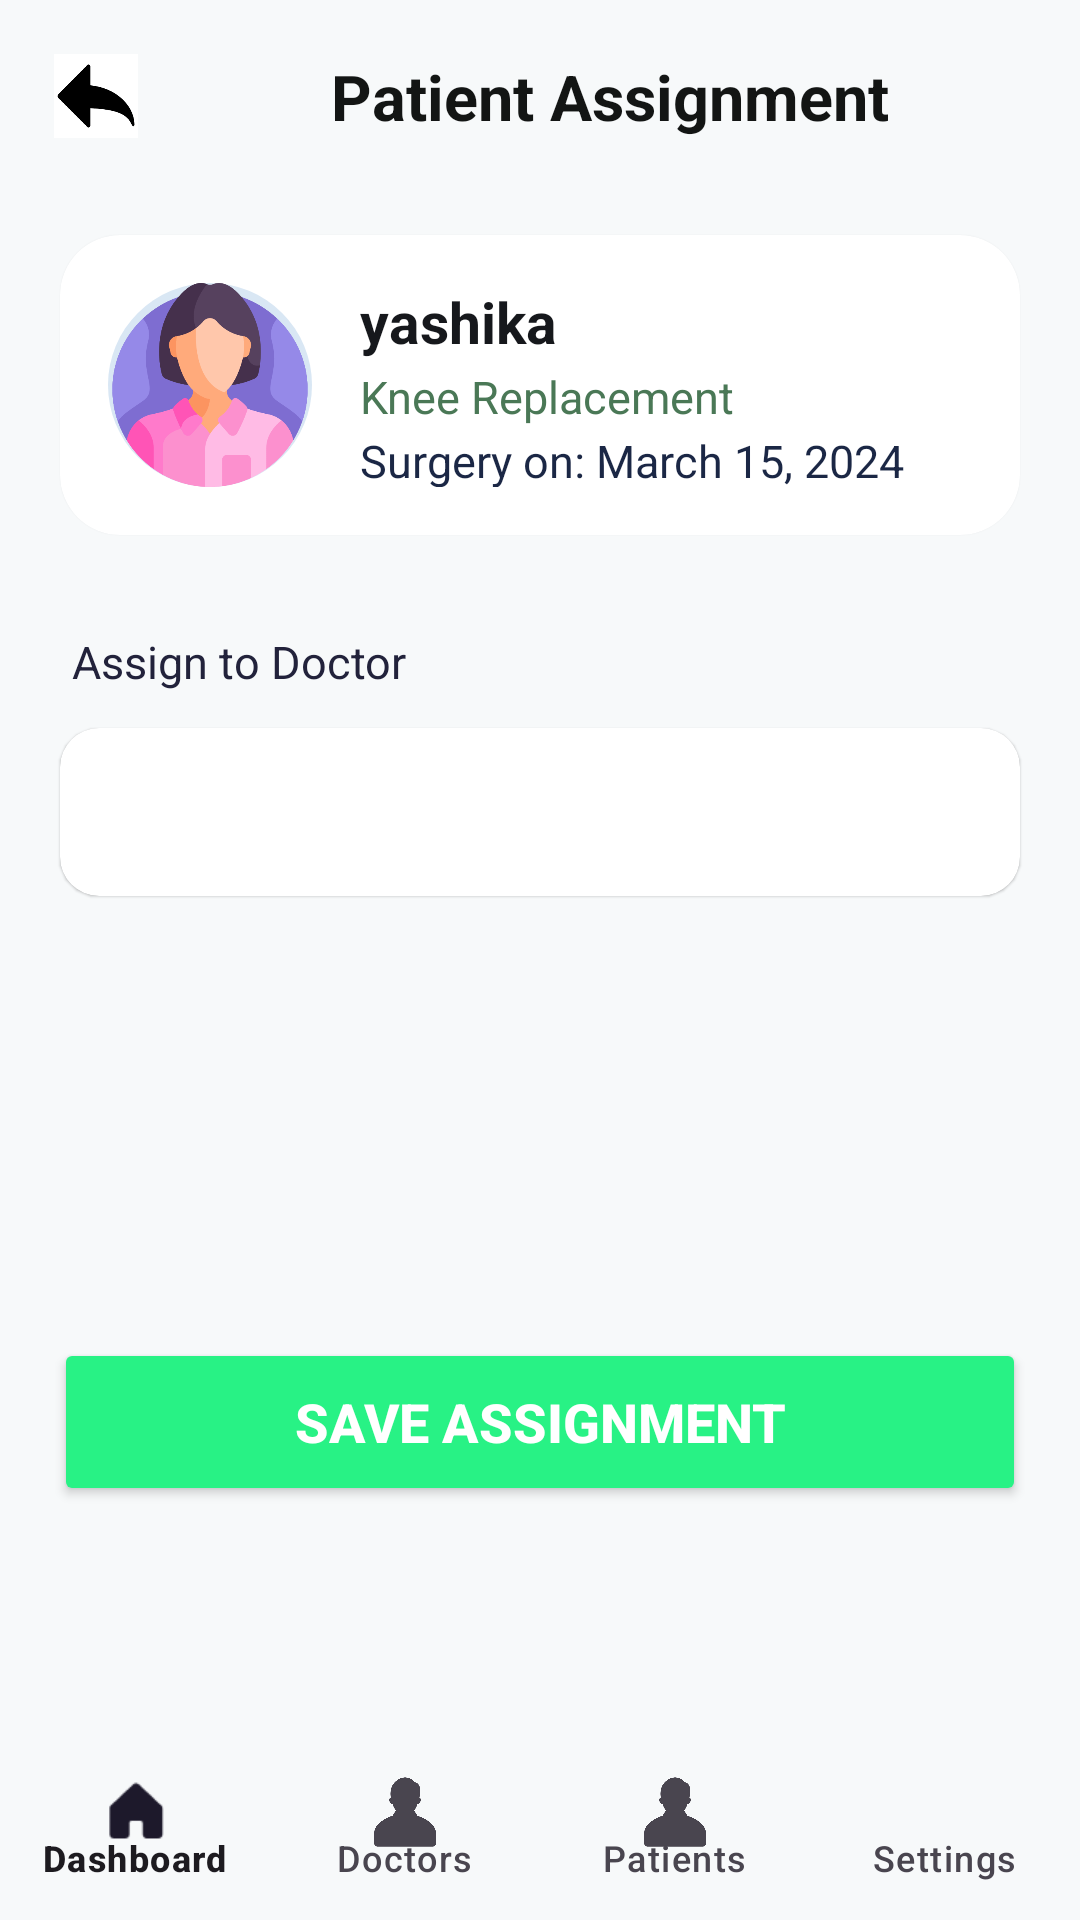

Locate icon controls on the screen. Image size 1080px×1920px, boxes as (x1, y1, x2, y2).
Back: (57, 64, 135, 128)
